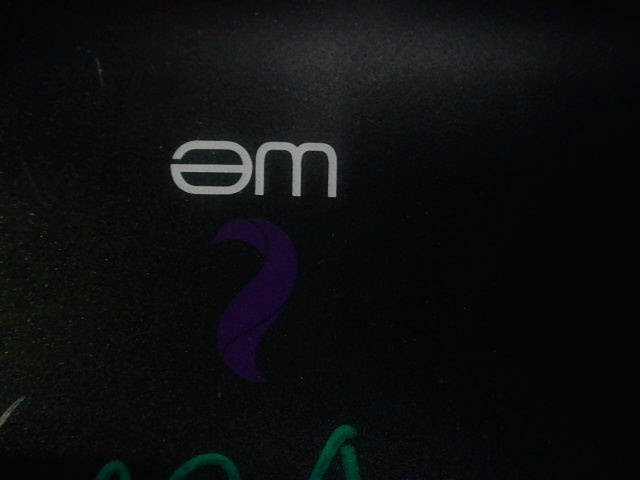AT_We: (148, 131, 354, 387)
